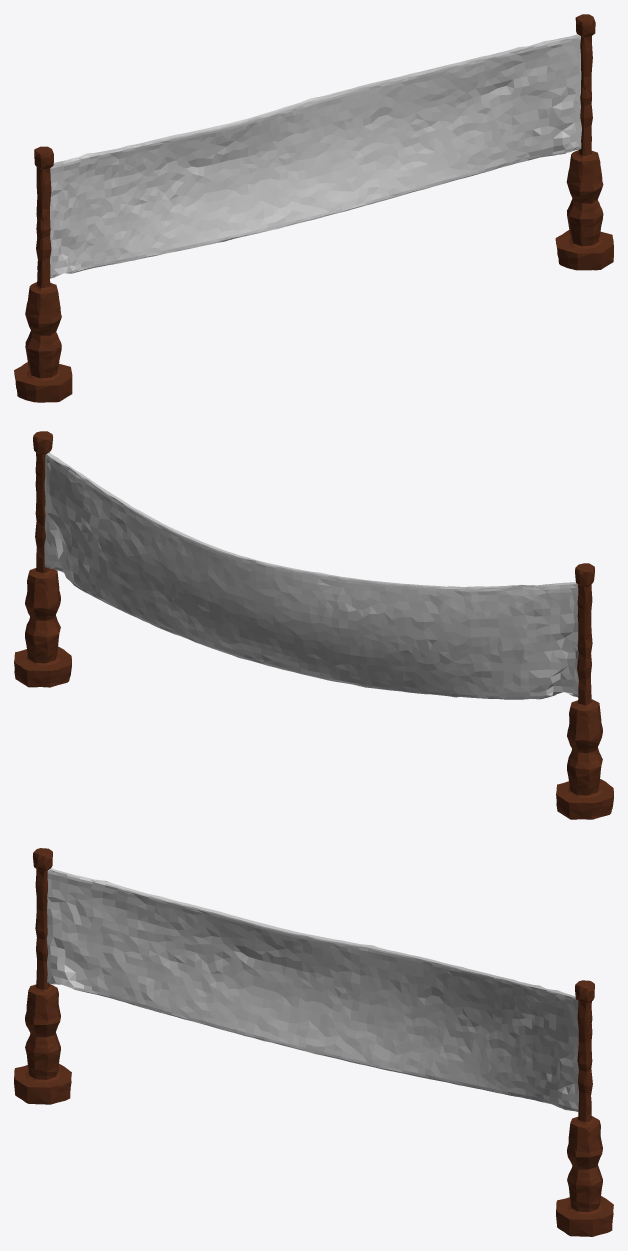
File: DesertLandSnakeFlag0185.obj
The picture shows the model from 3 angles, top to bottom: view 1: azimuth 30°, elevation 25°; view 2: azimuth 150°, elevation 25°; view 3: azimuth 330°, elevation 25°; orthographic projection.
Visible parts, largest first — view 1: Cube.003, Cube, Cube.002; view 2: Cube.003, Cube, Cube.002; view 3: Cube.003, Cube.002, Cube.
Part boxes in pixels (box(x1,y1,x2,y2)): Cube.003: box(50, 34, 581, 278); Cube: box(14, 146, 72, 402); Cube.002: box(555, 14, 613, 270); Cube.003: box(44, 452, 578, 699); Cube: box(556, 563, 613, 819); Cube.002: box(14, 431, 71, 687); Cube.003: box(46, 868, 578, 1112); Cube.002: box(556, 980, 613, 1236); Cube: box(14, 848, 71, 1104).
Bounding box in the file's own units: 27.57 × 10.7 × 3.82.
